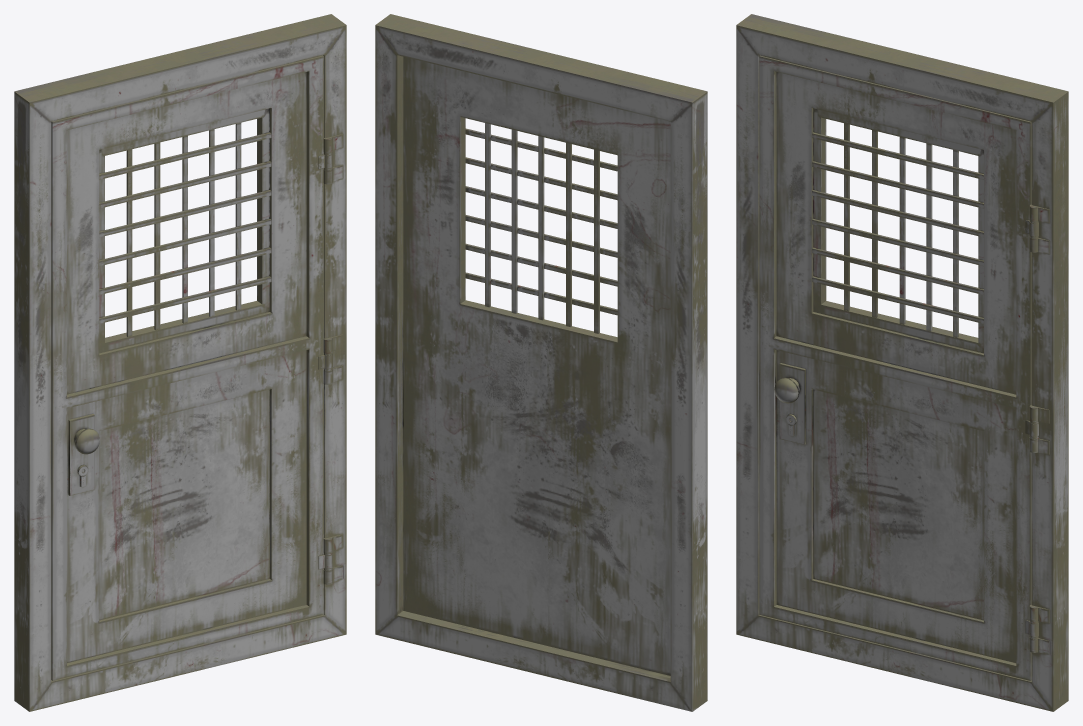
The model's file is A door.fbx.
The picture shows the model from 3 angles, left to right: view 1: azimuth 30°, elevation 25°; view 2: azimuth 150°, elevation 25°; view 3: azimuth 330°, elevation 25°; orthographic projection.
Visible parts, largest first — view 1: J_2b07; view 2: J_2b07; view 3: J_2b07.
Boxes of the visible parts, x1,y1,x2,y2 form: J_2b07: (14,14,346,711); J_2b07: (375,14,707,711); J_2b07: (736,14,1068,711).
Bounding box in the file's own units: 135 × 248 × 16.34.
